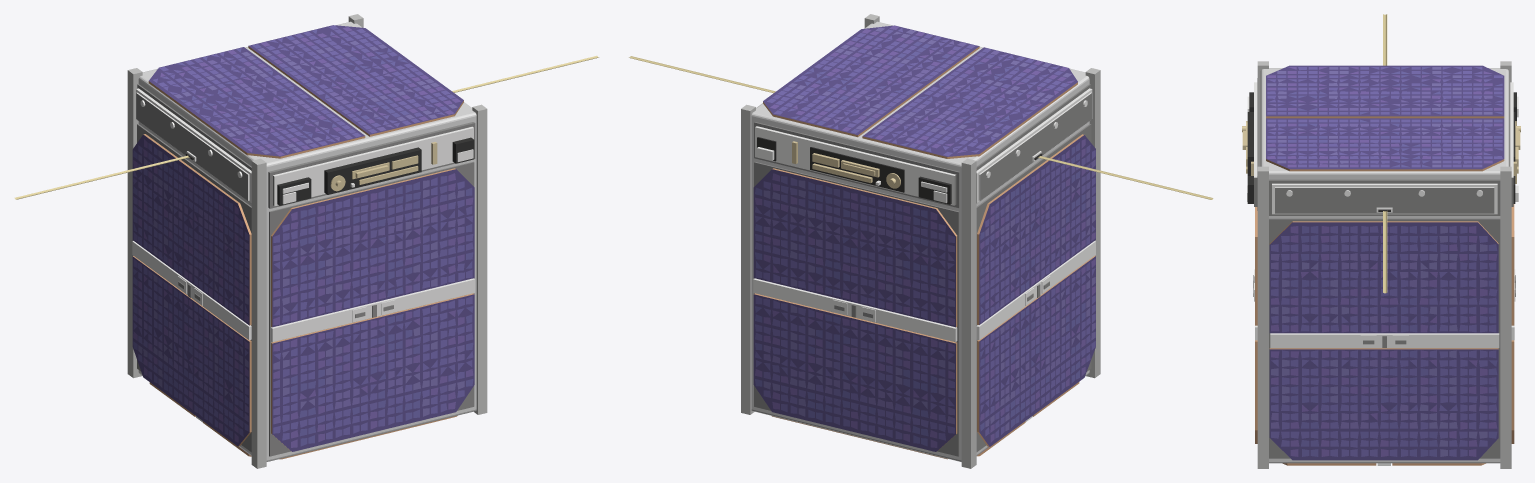
The model's file is cubesat-1-ru-generic.glb.
3 renders of one model, left to right at view 1: azimuth 30°, elevation 25°; view 2: azimuth 150°, elevation 25°; view 3: azimuth 270°, elevation 25°, orthographic. The views are drawn at different scales.
Visible parts, largest first — view 1: Layer_0; view 2: Layer_0; view 3: Layer_0.
Part boxes in pixels (box(x1,y1,x2,y2)): Layer_0: box(14, 14, 598, 468); Layer_0: box(629, 14, 1213, 468); Layer_0: box(1242, 14, 1520, 468).
Bounding box in the file's own units: 5.19 × 2.6 × 2.2.
